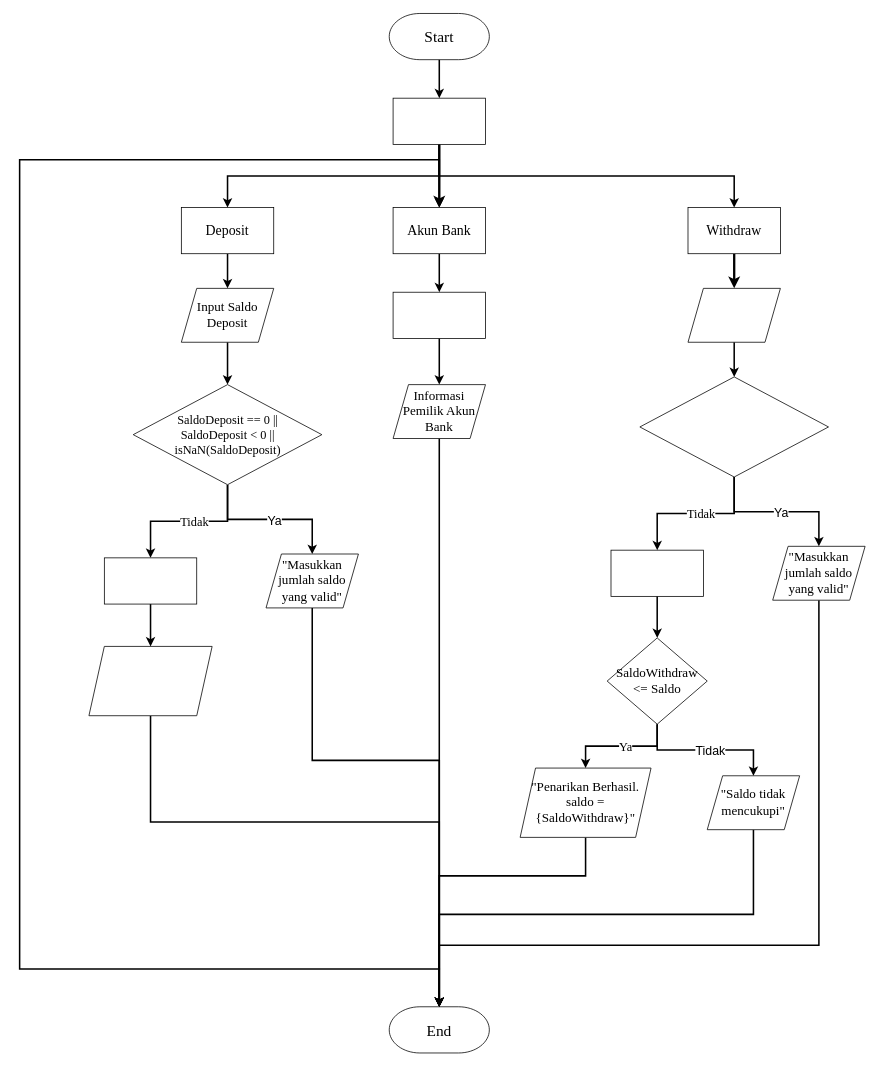
The diagram is 879 pixels wide and 1066 high, and some of its shapes have lost their labels. Here are the shapes that lost their labels. From the top down, the box of each, then its label:
(392, 97, 485, 144): Saldo = 0
(392, 291, 485, 338): akun()
(687, 288, 780, 342): Input Saldo Withdraw
(639, 376, 829, 477): SaldoWithdraw == 0 || SaldoWithdraw < 0 || isNaN(SaldoWithdraw)
(104, 557, 197, 604): Saldo += SaldoDeposit
(610, 549, 703, 596): Saldo += SaldoWithdraw
(88, 646, 212, 716): "Deposit Berhasil. saldo = {SaldoDeposit}"
